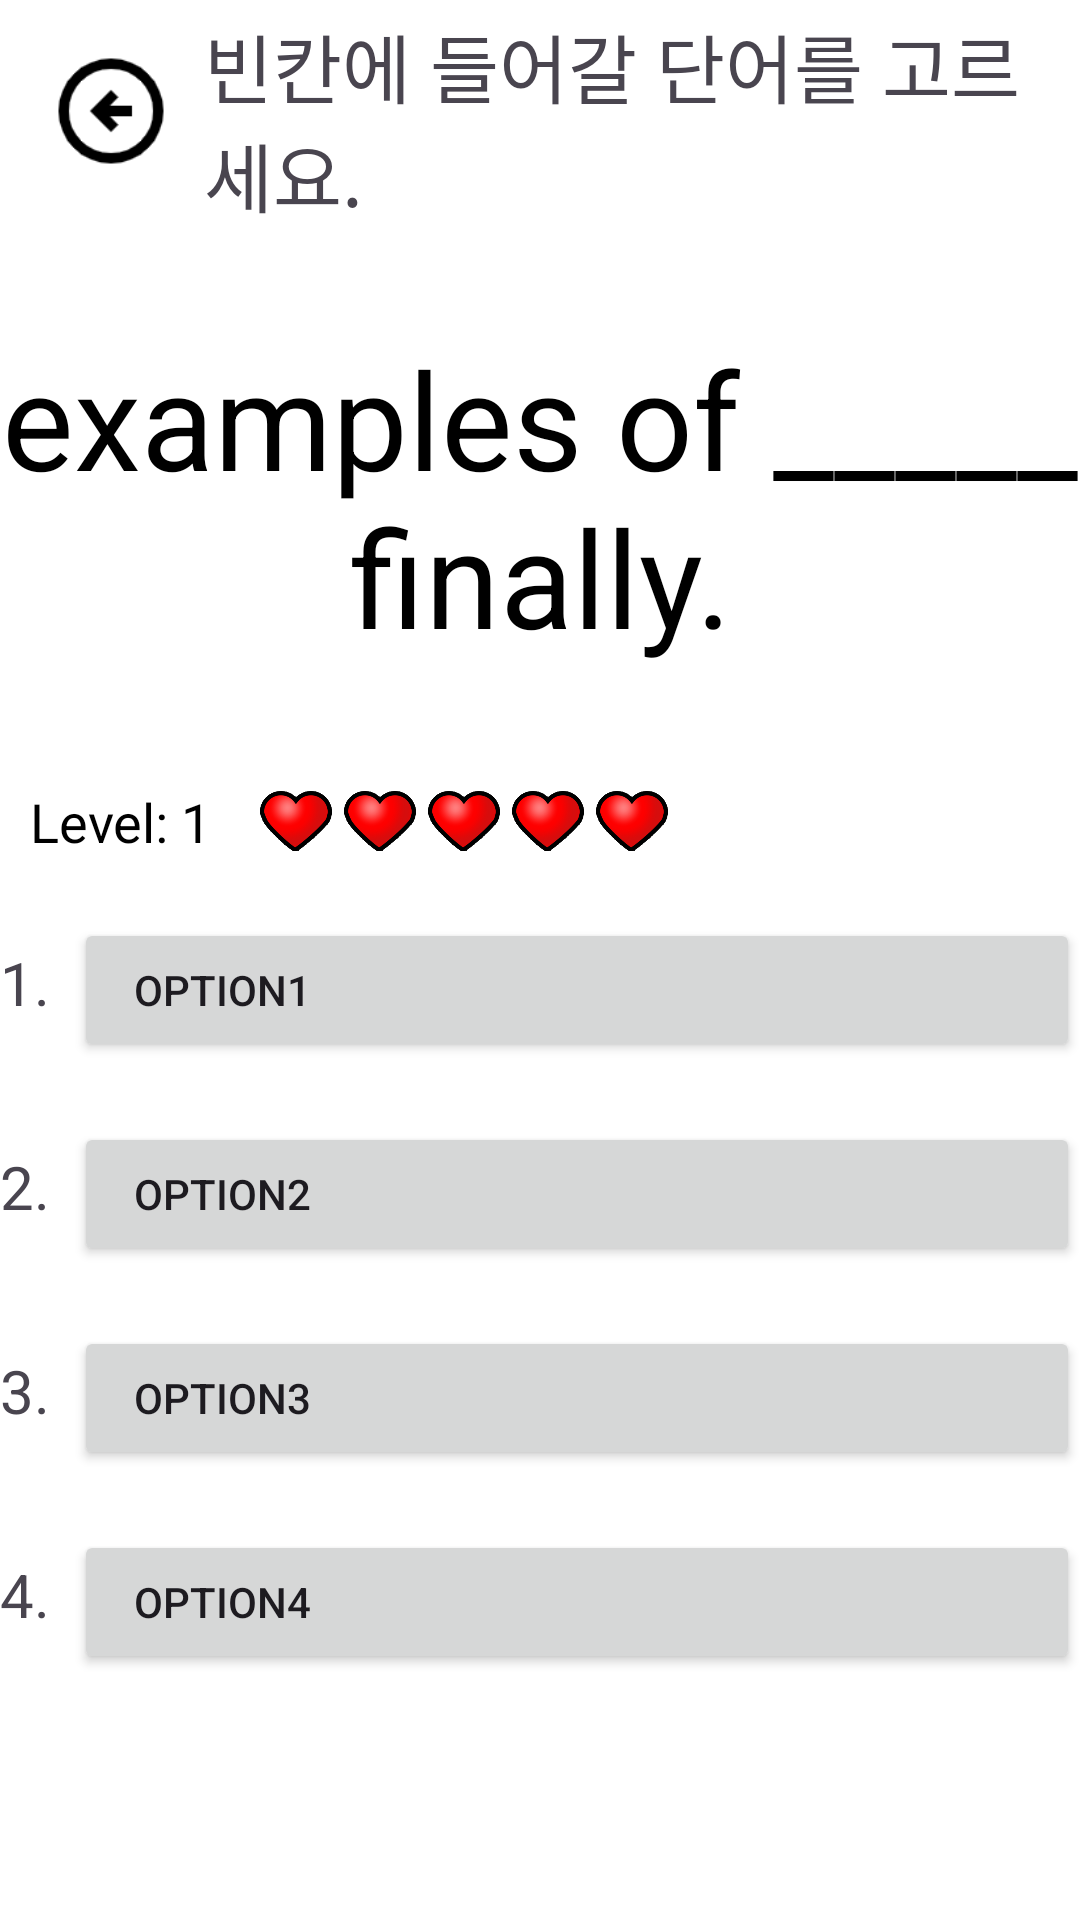

Icons on this 1080w x 1920h Android screen, each with its box as [x1=x1, y1=y1, x2=x2, y2=y2]:
back: [x1=58, y1=58, x2=164, y2=164]
full life: [x1=260, y1=791, x2=332, y2=851], [x1=344, y1=791, x2=416, y2=851], [x1=428, y1=791, x2=500, y2=851], [x1=512, y1=791, x2=584, y2=851], [x1=596, y1=791, x2=668, y2=851]
